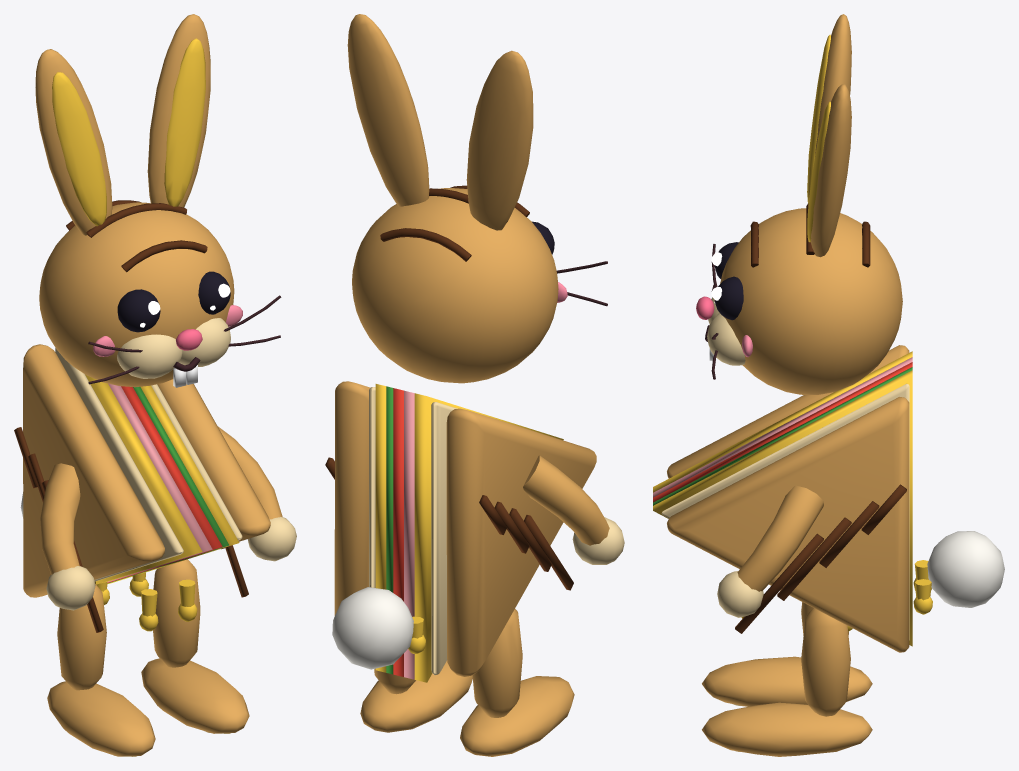
The model's file is paninikanin_c_lav.glb.
3 renders of one model, left to right at view 1: azimuth 30°, elevation 25°; view 2: azimuth 150°, elevation 25°; view 3: azimuth 270°, elevation 25°, orthographic. The views are drawn at different scales.
Visible parts, largest first — view 1: hode, kropp, bein_hf, bein_vf, vinge_v, vinge_h; view 2: kropp, hode, bein_vf, hale, vinge_v, bein_hf; view 3: kropp, hode, bein_hf, vinge_h, bein_vf, hale.
Boxes of the visible parts, x1,y1,x2,y2 form: hode: (35, 14, 281, 387); kropp: (14, 344, 270, 632); bein_hf: (141, 559, 249, 733); bein_vf: (47, 584, 155, 756); vinge_v: (40, 463, 95, 610); vinge_h: (218, 426, 296, 561); kropp: (325, 381, 596, 682); hode: (347, 14, 607, 383); bein_vf: (460, 609, 574, 756); hale: (332, 587, 413, 669); vinge_v: (523, 455, 624, 564); bein_hf: (360, 660, 472, 732); kropp: (653, 345, 932, 652); hode: (696, 14, 902, 394); bein_hf: (702, 608, 872, 756); vinge_h: (717, 485, 823, 617); bein_vf: (702, 602, 872, 706); hale: (927, 531, 1004, 607).
Size of the model in its own units: 0.73 by 1.92 by 0.905.
